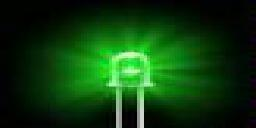LED: (103, 51, 156, 128)
